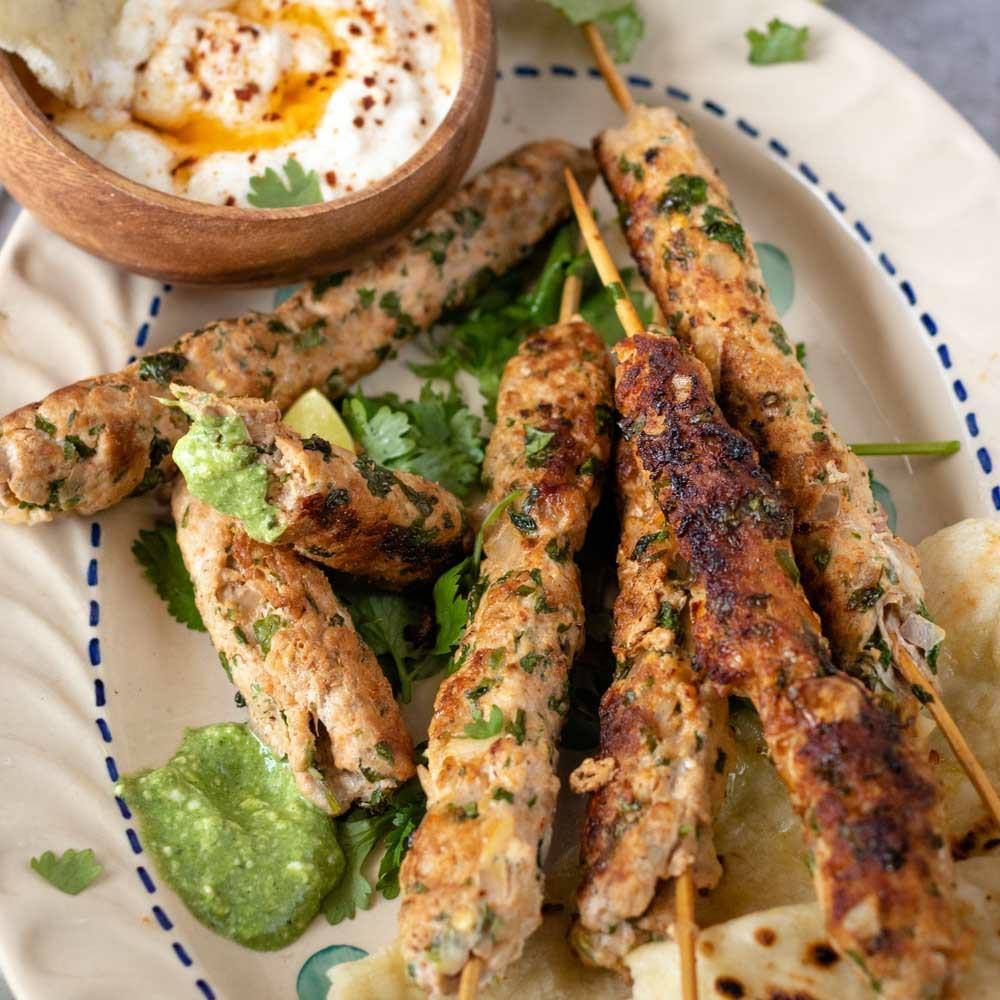Kebab: (611, 332, 989, 1000), (0, 140, 599, 524), (593, 106, 933, 740), (397, 314, 607, 1000), (573, 400, 725, 966), (173, 468, 415, 814), (174, 386, 466, 588)
